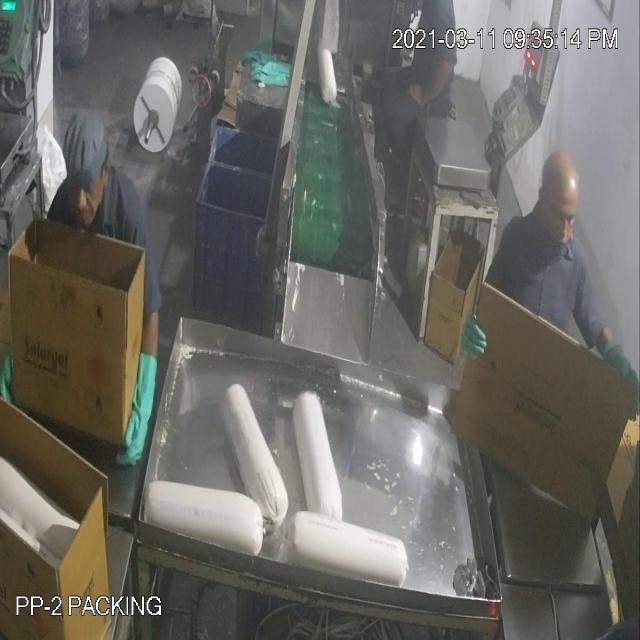No_Gloves: (51, 66, 434, 408)
